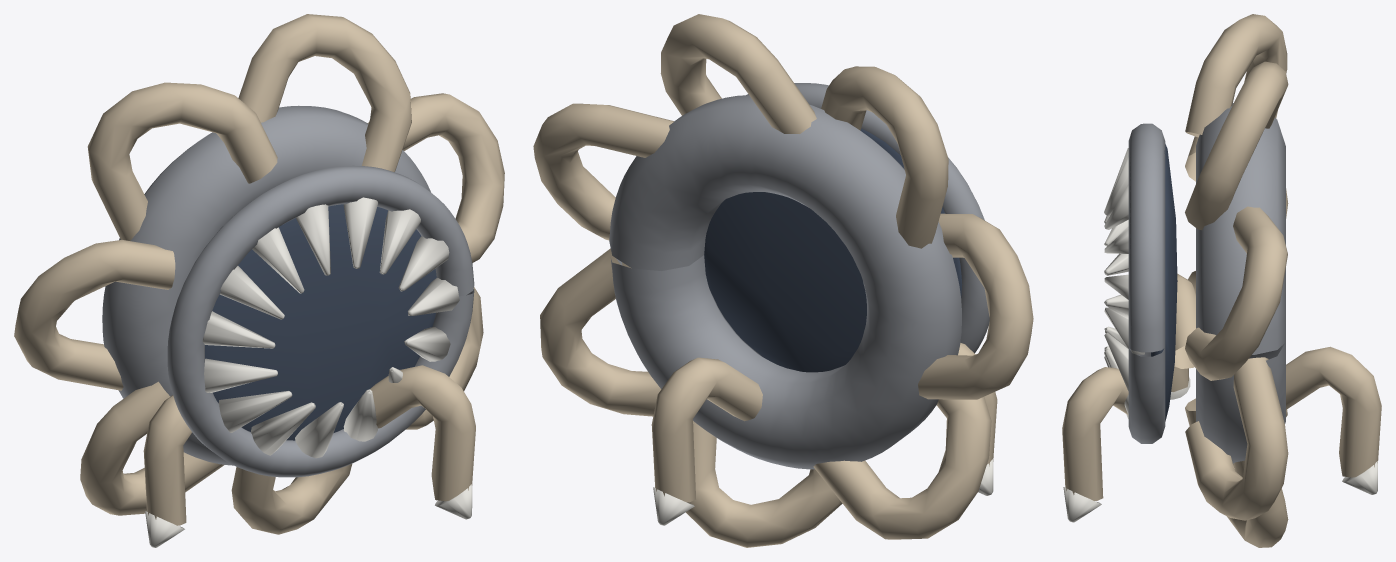
Rendered from bio_spiral_maw_07_far.glb.
3 renders of one model, left to right at view 1: azimuth 30°, elevation 25°; view 2: azimuth 150°, elevation 25°; view 3: azimuth 270°, elevation 25°, orthographic. The views are drawn at different scales.
Visible parts, largest first — view 1: Recessed mouth cavity, Raised oral lip, Rear muscular torus, Inward tooth, Coiling oral limb.002, Coiling oral limb.001, Coiling oral limb.003, Coiling oral limb, Coiling oral limb.004, Crooked support.002, Coiling oral limb.005, Crooked support.001 (+3 smaller); view 2: Rear muscular torus, Recessed mouth cavity, Coiling oral limb.003, Coiling oral limb.004, Coiling oral limb.002, Coiling oral limb.001, Coiling oral limb, Coiling oral limb.006, Crooked support, Coiling oral limb.005, Raised oral lip, Contact spur (+1 smaller); view 3: Rear muscular torus, Raised oral lip, Coiling oral limb.006, Coiling oral limb, Coiling oral limb.001, Crooked support, Coiling oral limb.002, Crooked support.002, Inward tooth, Recessed mouth cavity, Coiling oral limb.005, Crooked support.001 (+2 smaller).
Boxes of the visible parts, x1,y1,x2,y2 form: Recessed mouth cavity: (205, 204, 436, 440); Raised oral lip: (167, 165, 474, 477); Rear muscular torus: (102, 105, 430, 465); Inward tooth: (202, 197, 459, 458); Coiling oral limb.002: (87, 82, 277, 240); Coiling oral limb.001: (238, 14, 411, 171); Coiling oral limb.003: (14, 240, 175, 390); Coiling oral limb: (367, 93, 504, 262); Coiling oral limb.004: (80, 381, 224, 515); Crooked support.002: (362, 365, 475, 501); Coiling oral limb.005: (231, 464, 352, 534); Crooked support.001: (143, 395, 191, 525); Rear muscular torus: (609, 95, 961, 469); Recessed mouth cavity: (704, 128, 962, 372); Coiling oral limb.003: (918, 213, 1033, 399); Coiling oral limb.004: (813, 397, 991, 539); Coiling oral limb.002: (821, 66, 948, 248); Coiling oral limb.001: (660, 14, 816, 133); Coiling oral limb: (533, 103, 673, 240); Coiling oral limb.006: (540, 248, 661, 416); Crooked support: (651, 357, 762, 502); Coiling oral limb.005: (686, 421, 842, 547); Raised oral lip: (744, 83, 989, 356); Contact spur: (653, 487, 694, 525); Rear muscular torus: (1196, 103, 1285, 463); Raised oral lip: (1128, 123, 1165, 443); Coiling oral limb.006: (1185, 357, 1288, 520); Coiling oral limb: (1185, 206, 1287, 380); Coiling oral limb.001: (1185, 61, 1288, 230); Crooked support: (1286, 346, 1381, 477); Coiling oral limb.002: (1185, 14, 1287, 137); Crooked support.002: (1062, 367, 1128, 500); Inward tooth: (1104, 148, 1144, 418); Recessed mouth cavity: (1151, 144, 1177, 421); Coiling oral limb.005: (1185, 398, 1288, 547); Crooked support.001: (1171, 273, 1195, 391).
Size of the model in its own units: 2.58 by 2.61 by 1.56.
